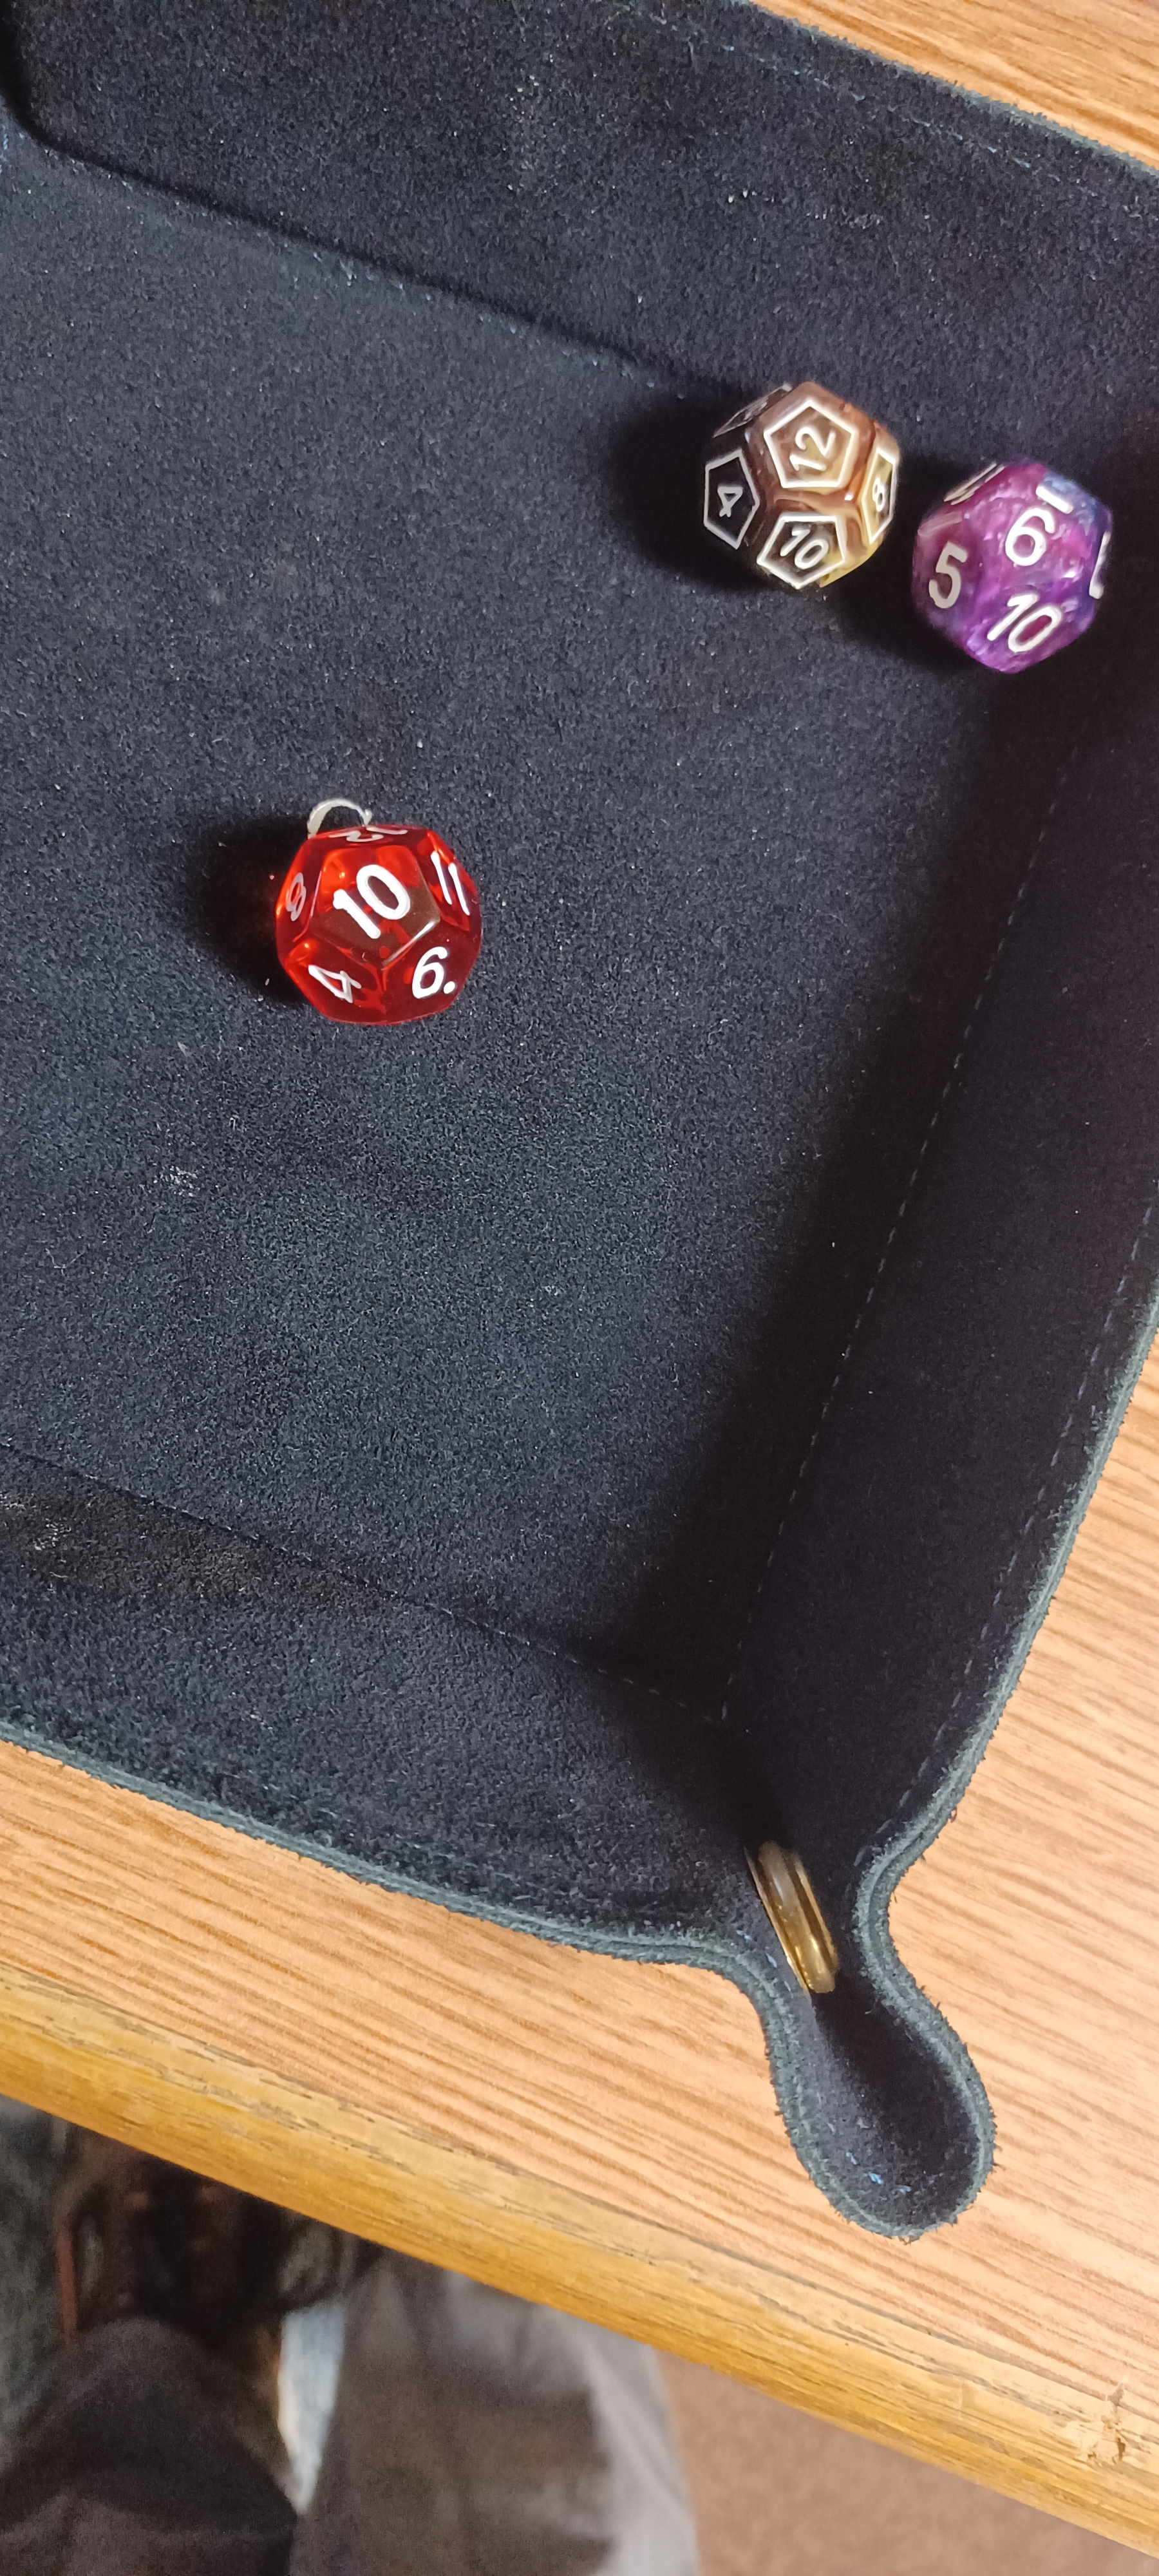nine: (905, 439, 1141, 708)
ten: (217, 795, 517, 1061)
twelve: (667, 358, 928, 601)
